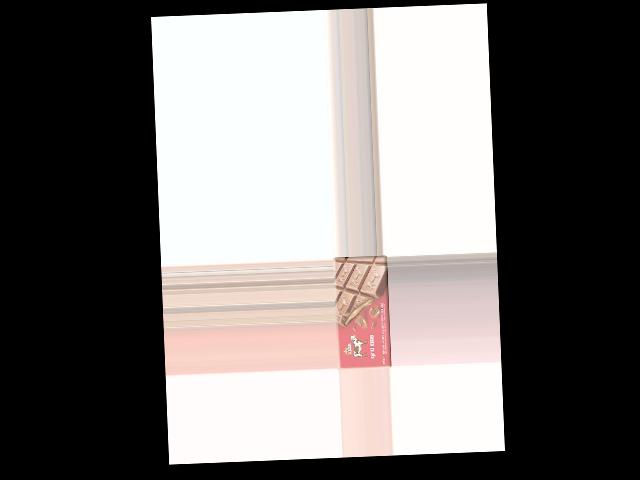chocolate: (333, 256, 390, 370)
